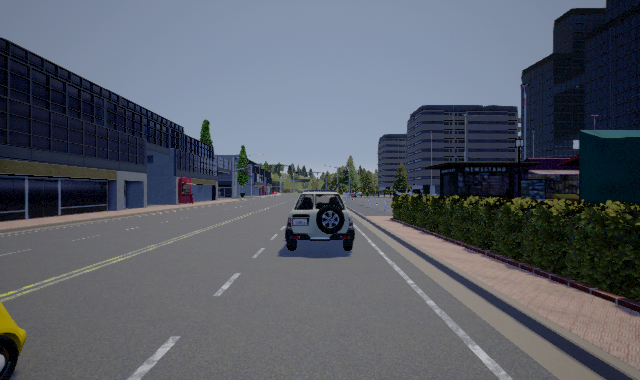vehicle: (285, 188, 355, 251), (1, 301, 27, 380)
